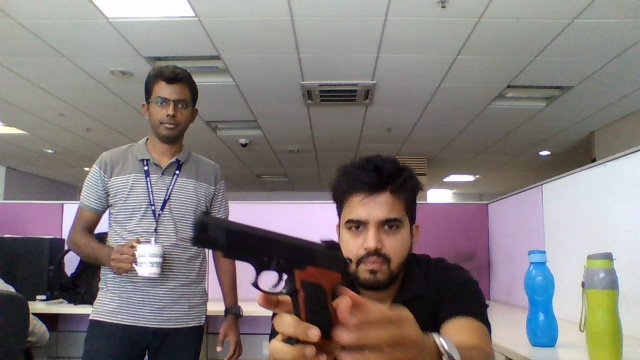gun: (191, 211, 341, 295)
